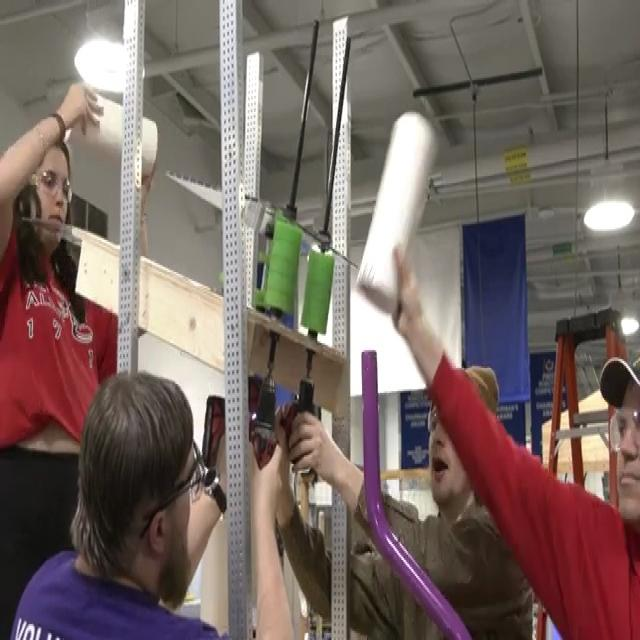Coral: (354, 106, 438, 316), (64, 95, 158, 172)
